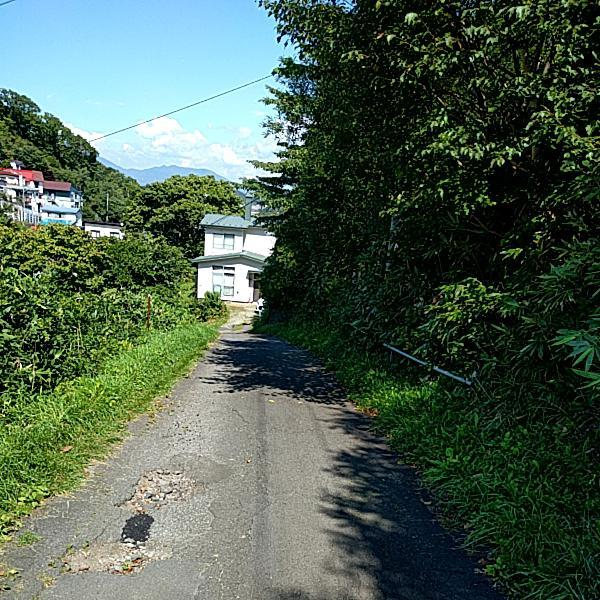D40: (47, 532, 178, 577), (112, 461, 213, 512)
